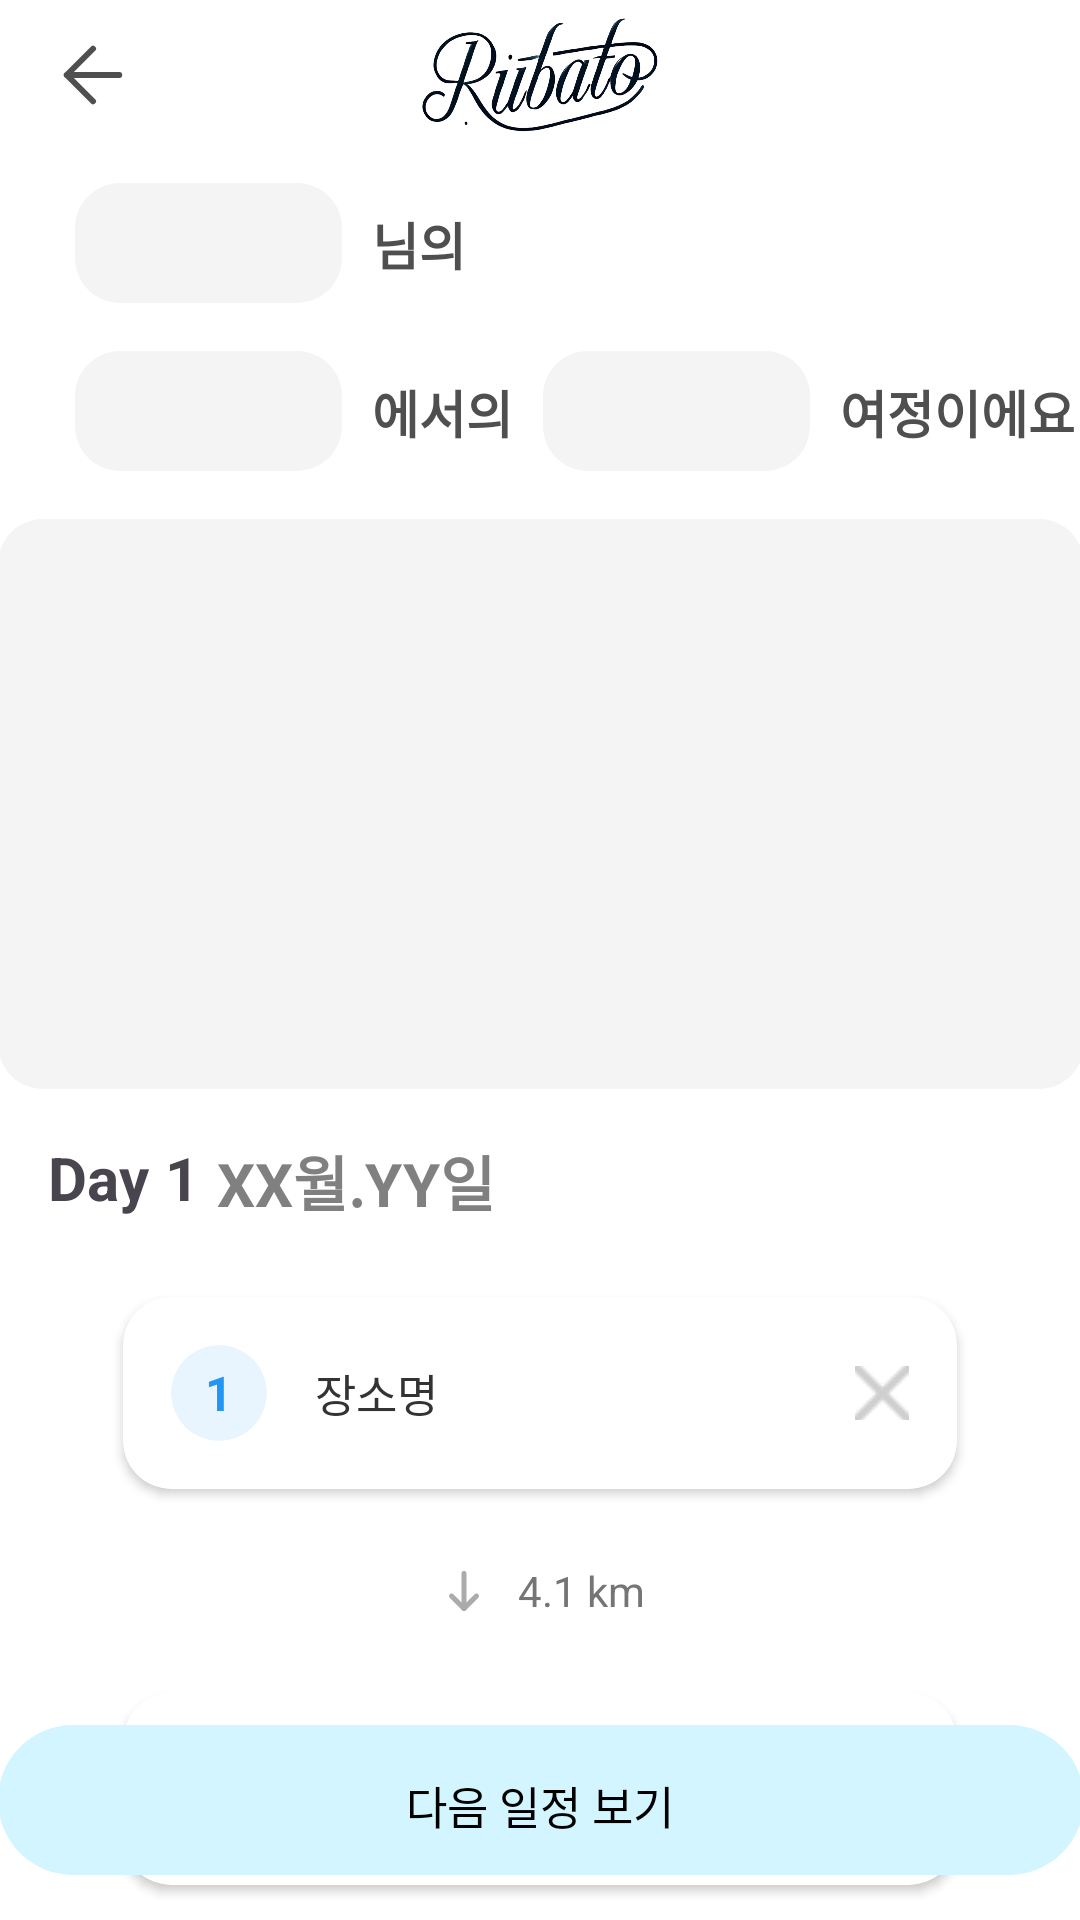

Icon click points for this 1080px x 1920px phone screenshot, format [x,y]:
back arrow: [93,75]
route arrow: [464,1591]
